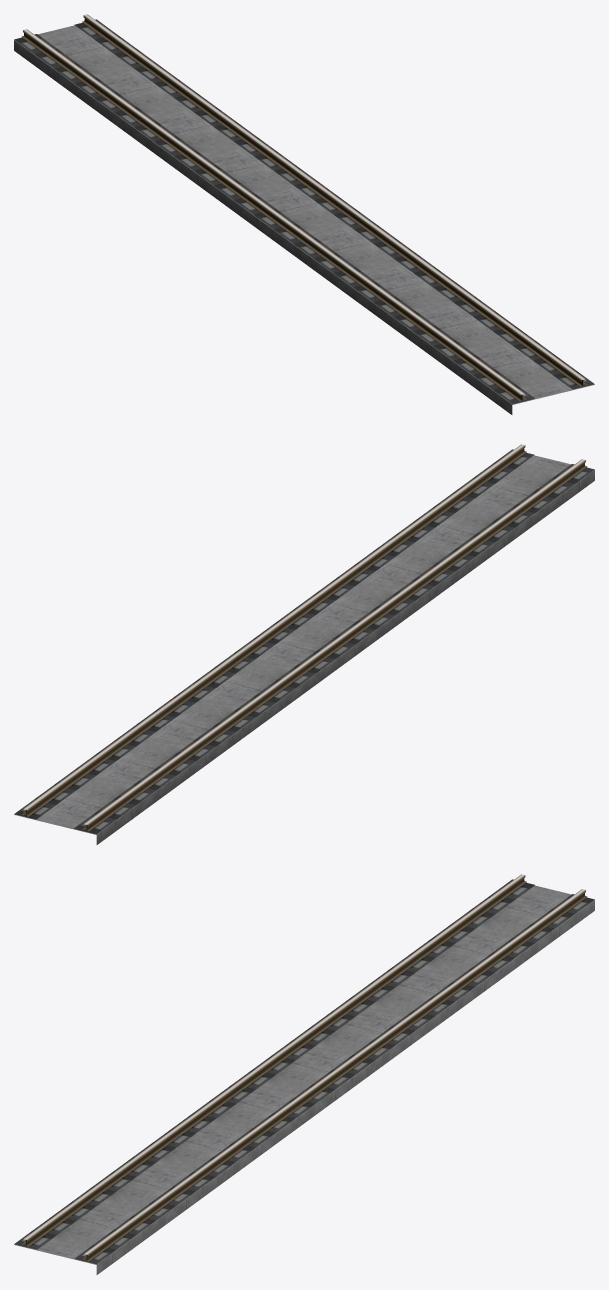
The model's file is SIN_1RAIL_50_CHIKA.glb.
3 renders of one model, top to bottom at view 1: azimuth 30°, elevation 25°; view 2: azimuth 150°, elevation 25°; view 3: azimuth 330°, elevation 25°, orthographic.
Parts seen in each view (by area): view 1: obj31; view 2: obj31; view 3: obj31.
Boxes of the visible parts, x1=… form: obj31: x1=14, y1=14, x2=594, y2=414; obj31: x1=14, y1=444, x2=594, y2=844; obj31: x1=14, y1=874, x2=594, y2=1274.
Bounding box in the file's own units: 4.78 × 1.02 × 50.
Materials: 4 (3 with a texture image).
